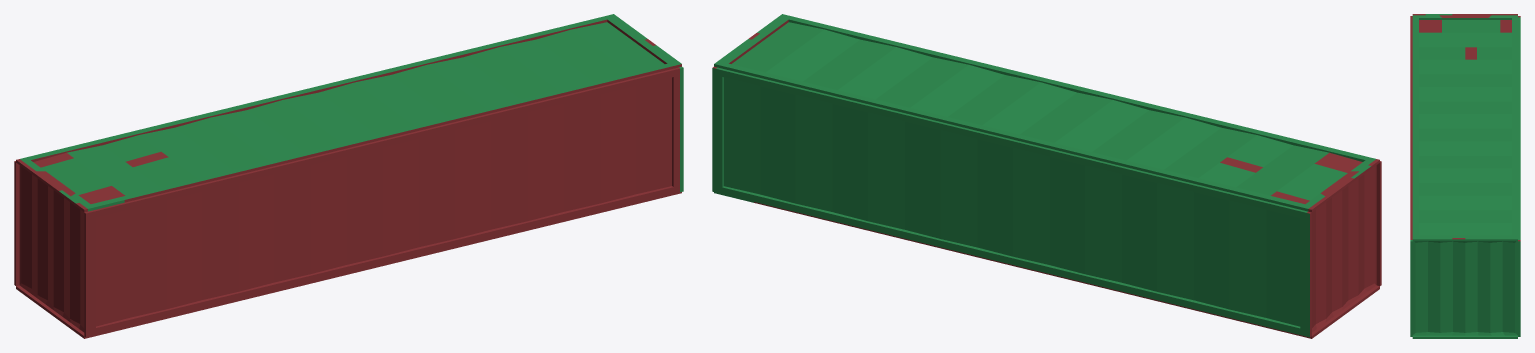
The model's file is ContainerFechado_A03.fbx.
3 renders of one model, left to right at view 1: azimuth 30°, elevation 25°; view 2: azimuth 150°, elevation 25°; view 3: azimuth 270°, elevation 25°, orthographic. The views are drawn at different scales.
Parts seen in each view (by area): view 1: Counteiner; view 2: Counteiner; view 3: Counteiner.
Boxes of the visible parts, box(x1,y1,x2,y2) form: Counteiner: box(14, 14, 683, 338); Counteiner: box(712, 14, 1381, 338); Counteiner: box(1410, 14, 1520, 338).
Size of the model in its own units: 681 by 141 by 141.
